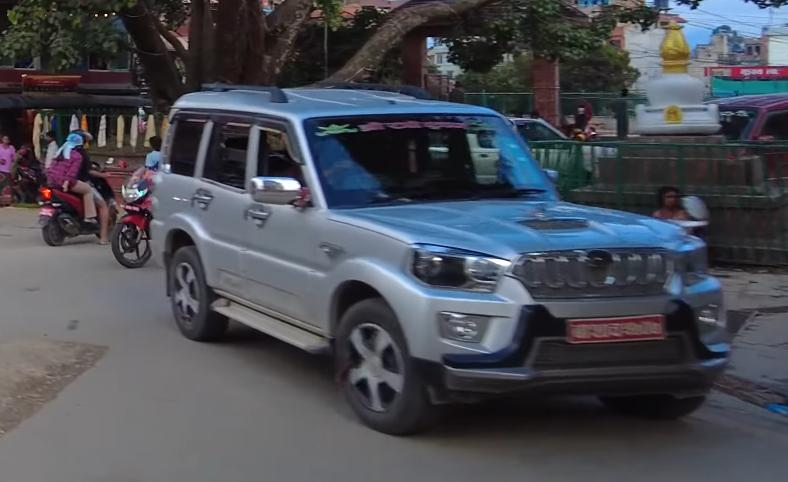SUV: (155, 76, 736, 436)
bike: (112, 162, 162, 272)
scooter: (35, 160, 123, 246)
